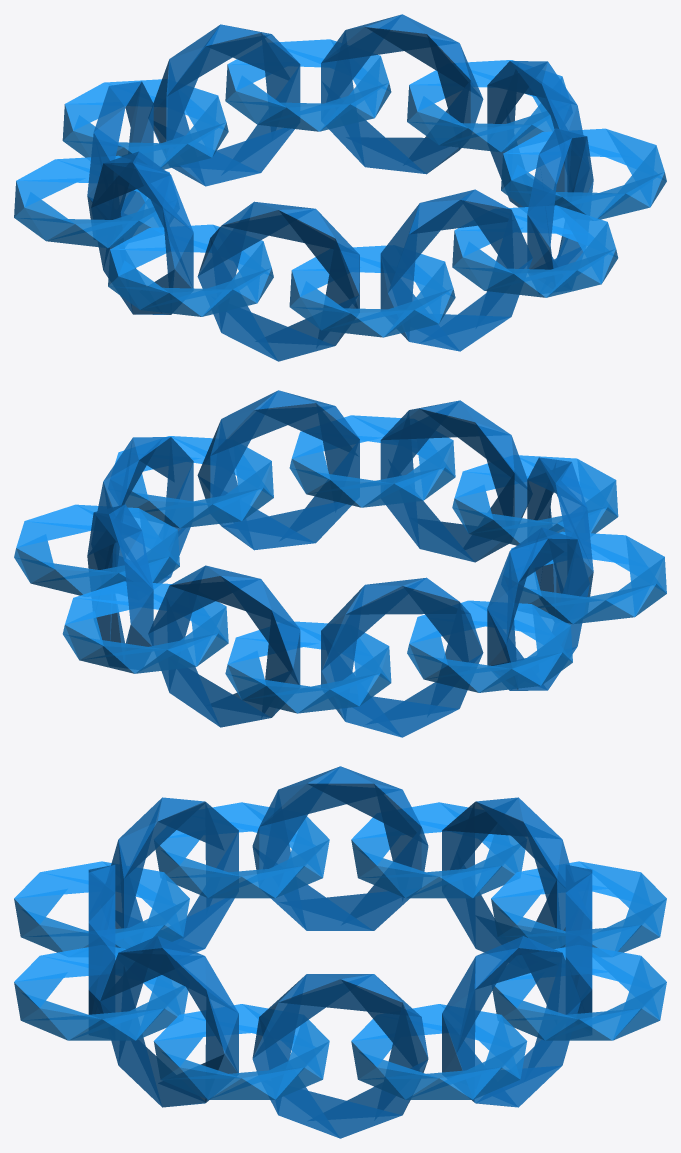
The model's file is fractalantioctagonaliristoroid1.glb.
3 renders of one model, top to bottom at view 1: azimuth 30°, elevation 25°; view 2: azimuth 150°, elevation 25°; view 3: azimuth 270°, elevation 25°, orthographic. The views are drawn at different scales.
Bounding box in the file's own units: 10.95 × 2.95 × 10.95.
